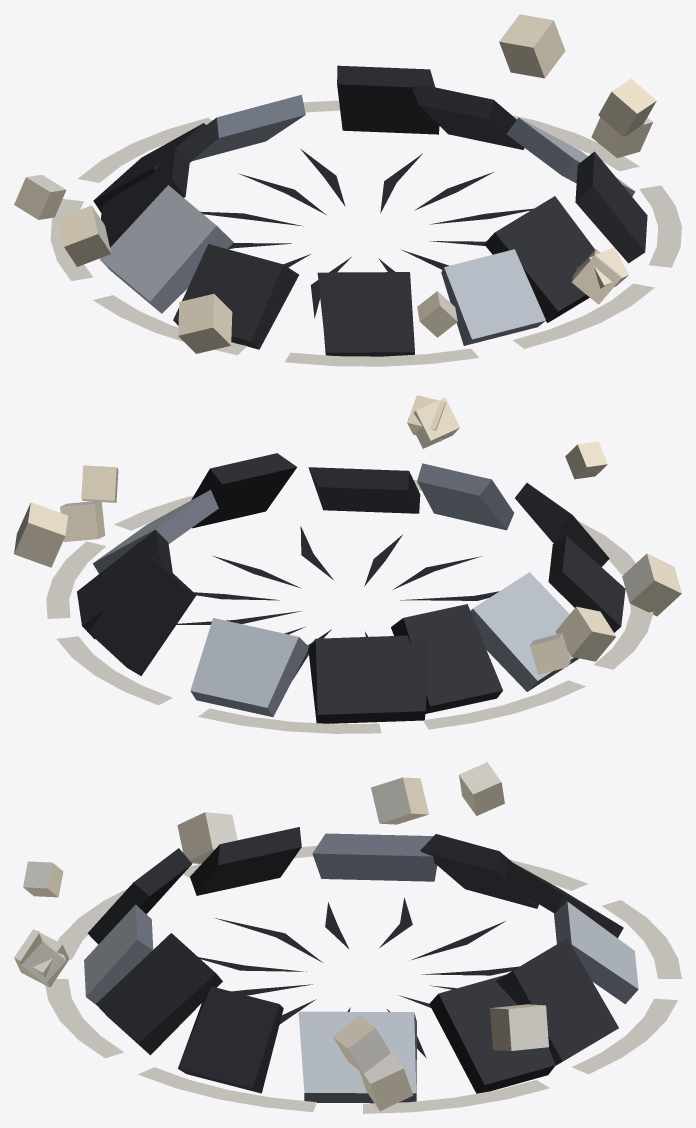
File: FX_Quake.fbx
3 renders of one model, top to bottom at view 1: azimuth 30°, elevation 25°; view 2: azimuth 150°, elevation 25°; view 3: azimuth 270°, elevation 25°, orthographic. The views are drawn at different scales.
Visible parts, largest first — view 1: FX_Quake; view 2: FX_Quake; view 3: FX_Quake.
Part boxes in pixels (x1,y1,x2,y2): FX_Quake: (14,14,681,366); FX_Quake: (14,395,681,733); FX_Quake: (14,762,681,1113).
Size of the model in its own units: 2.25 by 0.3983 by 2.22.
